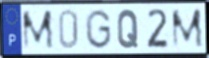0: (57, 7, 80, 51)
2: (146, 8, 171, 51)
G: (84, 8, 113, 51)
M: (21, 8, 56, 52), (170, 7, 205, 50)
Q: (116, 9, 140, 51)
